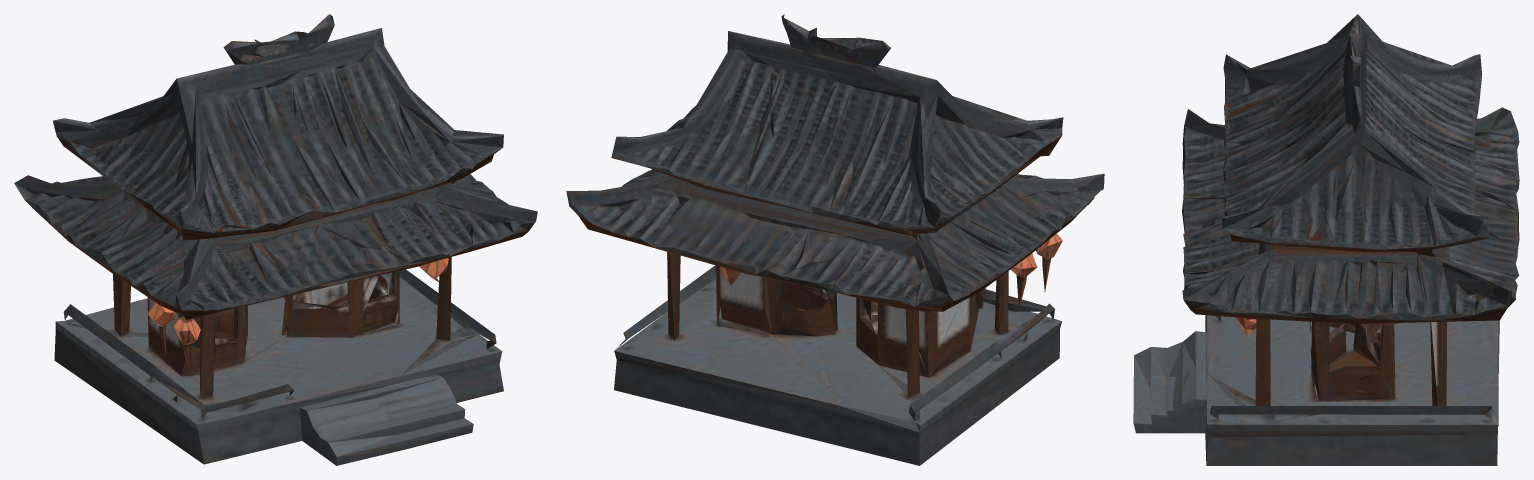
Rendered from teahouse.glb.
3 renders of one model, left to right at view 1: azimuth 30°, elevation 25°; view 2: azimuth 150°, elevation 25°; view 3: azimuth 270°, elevation 25°, orthographic.
Parts seen in each view (by area): view 1: output_unwrapped; view 2: output_unwrapped; view 3: output_unwrapped.
Boxes of the visible parts, left/top/right/bottom form: output_unwrapped: left=14, top=14, right=537, bottom=465; output_unwrapped: left=566, top=14, right=1104, bottom=465; output_unwrapped: left=1133, top=14, right=1519, bottom=465.
Bounding box in the file's own units: 1.89 × 1.64 × 1.62.
Materials: 1 (1 with a texture image).
